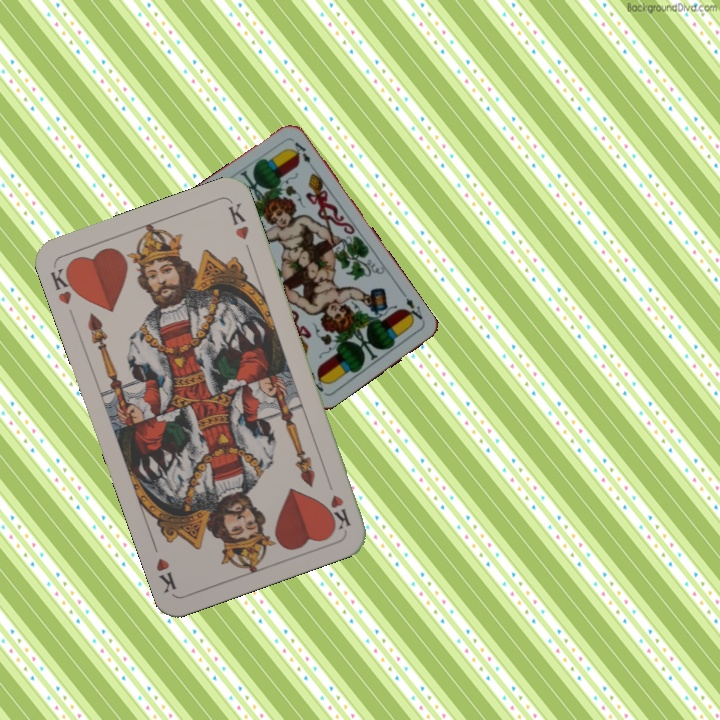EA: (398, 289, 426, 325)
HK: (46, 261, 82, 307), (326, 490, 354, 532)
